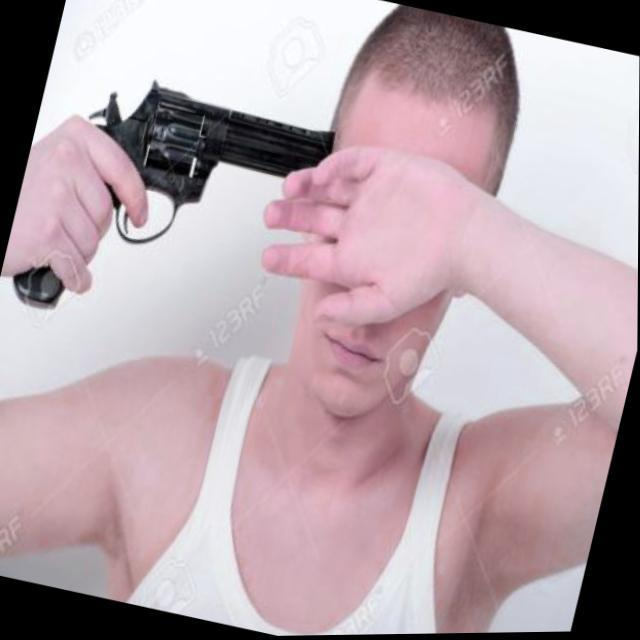weapon: (0, 49, 358, 383)
